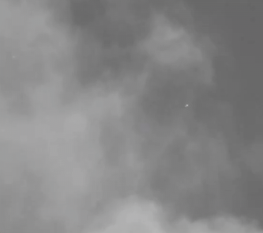Target: (185, 105, 187, 107)
